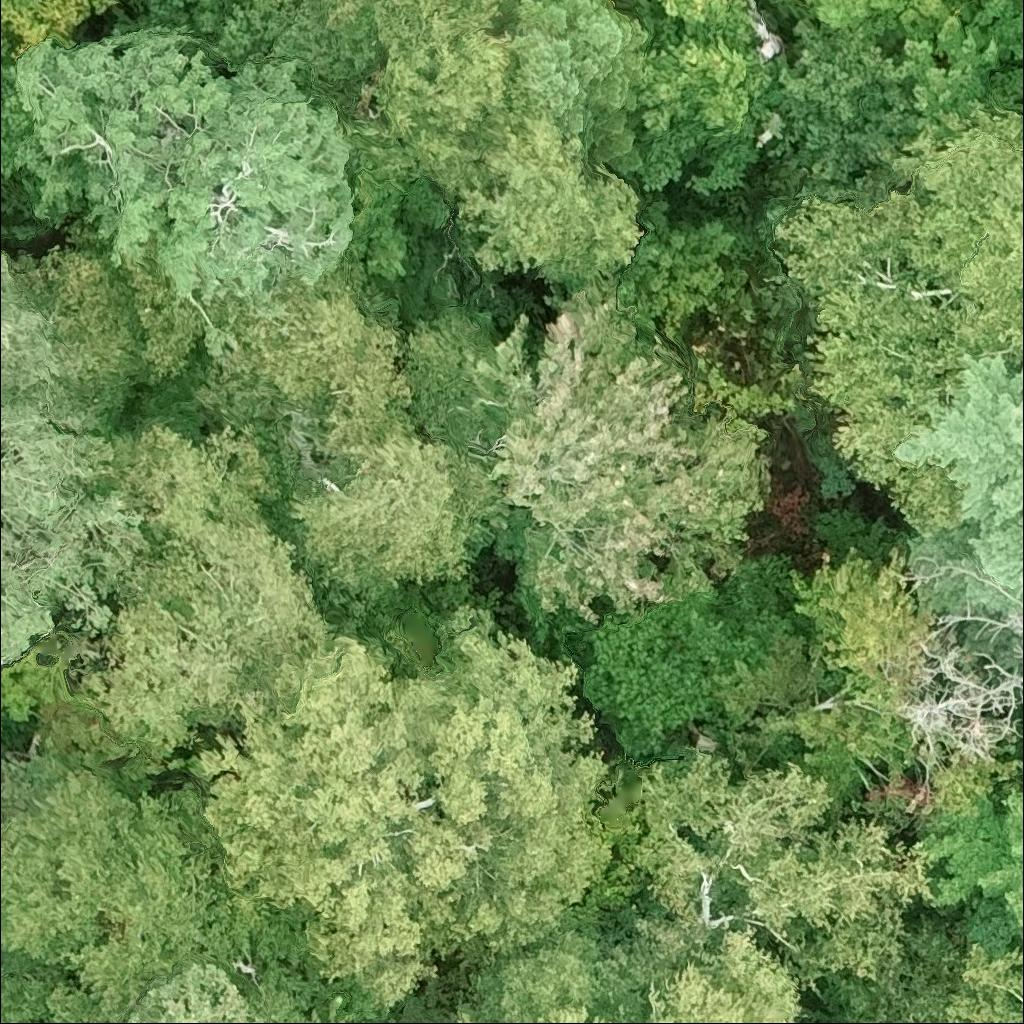crown: (93, 959, 278, 1023)
